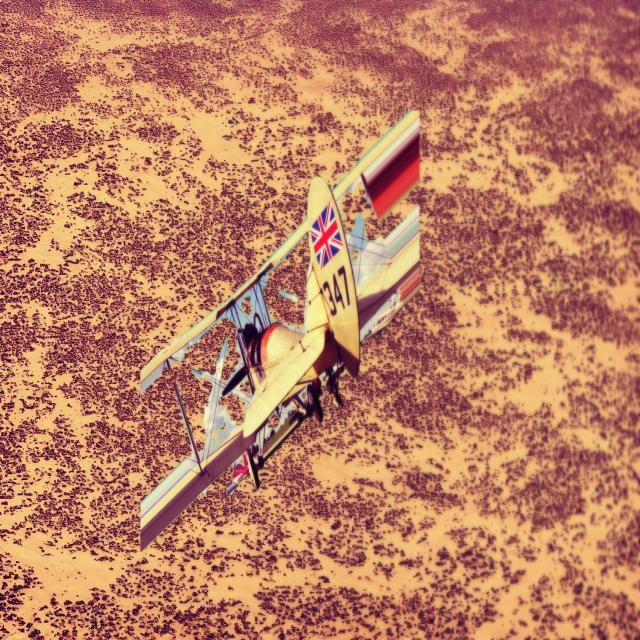airplane: (138, 108, 422, 551)
